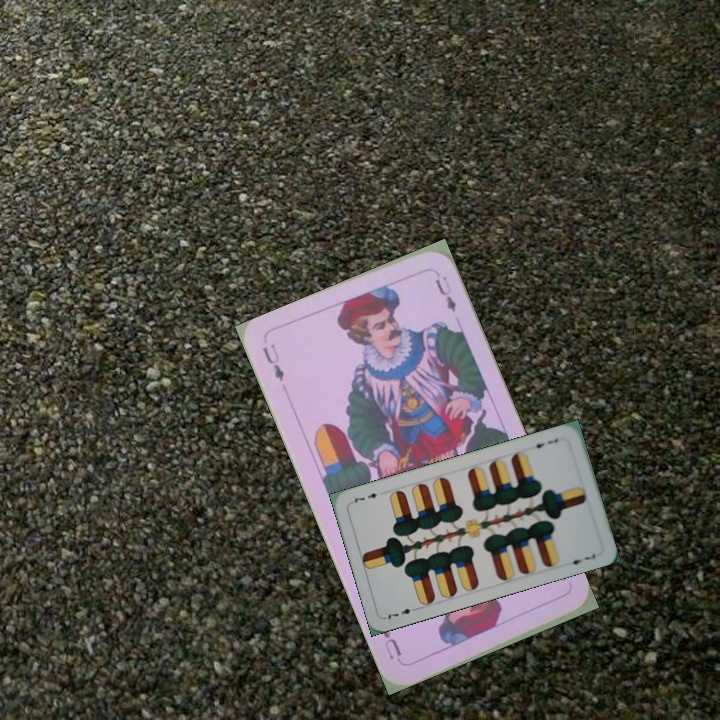E7: (381, 603, 421, 622), (527, 434, 561, 451)
EU: (258, 339, 287, 385)
